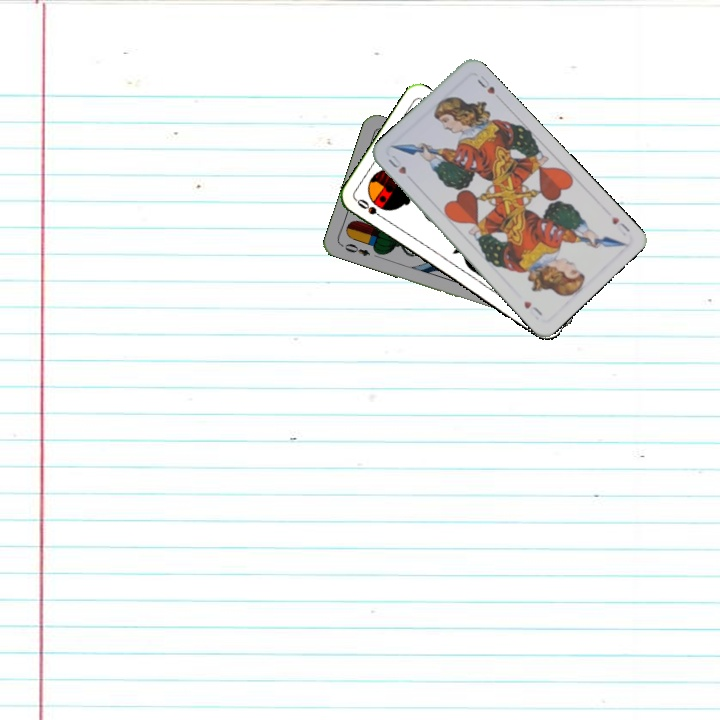EO: (337, 239, 373, 259)
HU: (384, 151, 409, 177), (607, 213, 632, 239)
SO: (352, 195, 389, 223)
